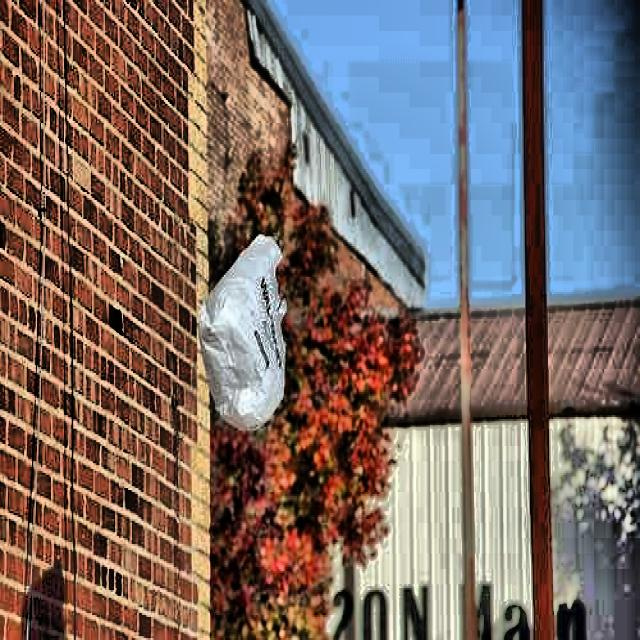Plastic: (196, 233, 299, 458)
